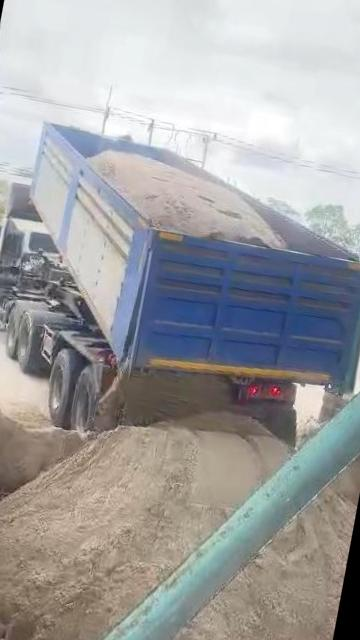sand: (0, 370, 286, 640), (159, 491, 356, 640), (89, 150, 286, 248), (0, 379, 90, 490), (334, 449, 360, 506)
